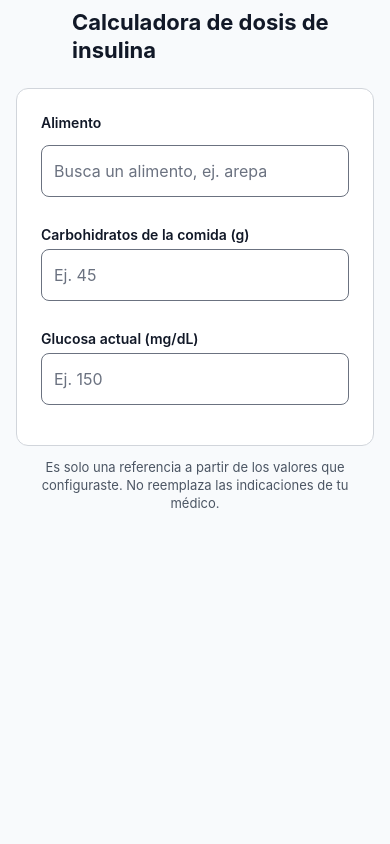
Test: InsulinCalculatorScreen › busca un alimento y precarga sus carbohidratos
The width and height of the screenshot is (390, 844).
In the field with placeholder "Busca un alimento, ej. arepa": (195, 171) x1=54 y1=149 x2=336 y2=193, type "arroz"
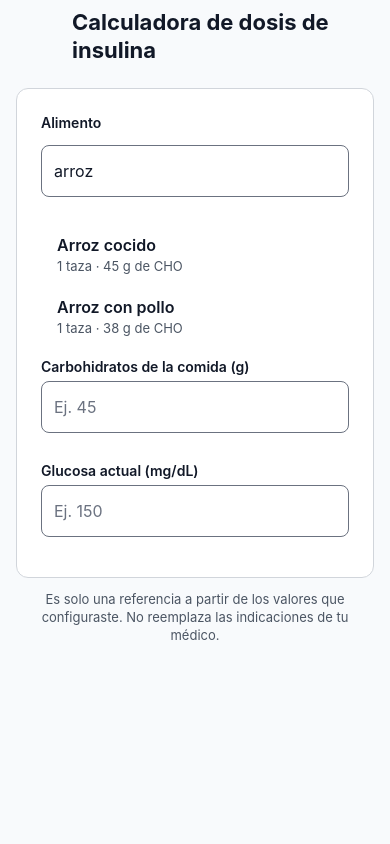
Click the text "Arroz cocido": (106, 245) x1=57 y1=235 x2=156 y2=255
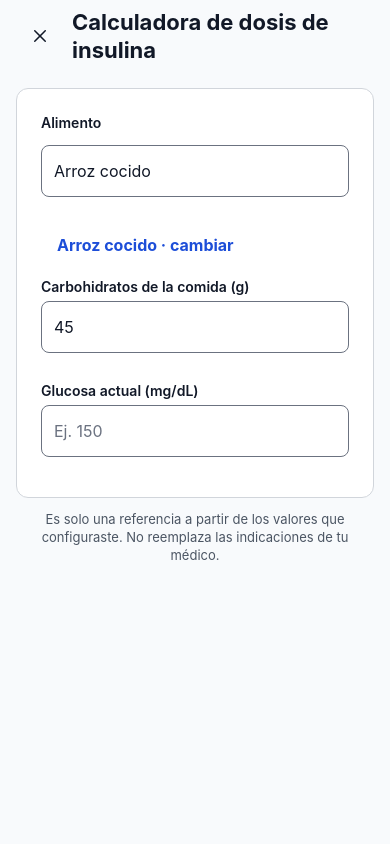
Result: the field named "Carbohidratos de la comida (g)" holds "45" at x1=54 y1=305 x2=336 y2=349
